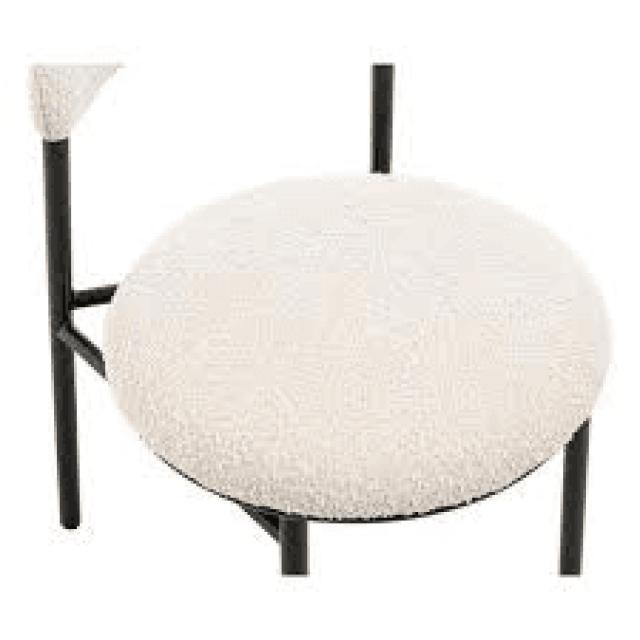chair: (25, 52, 620, 581), (28, 58, 580, 434)
